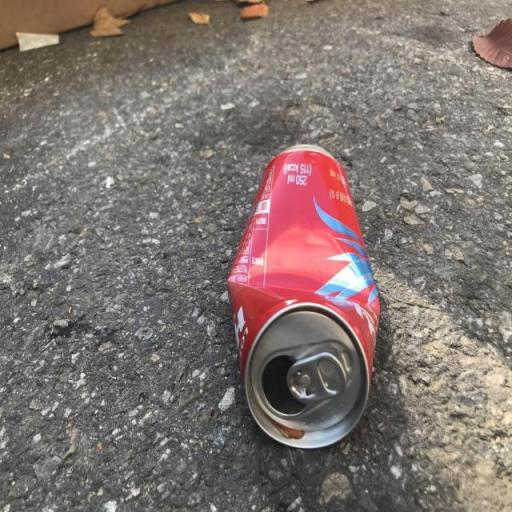metal: (212, 134, 398, 473)
